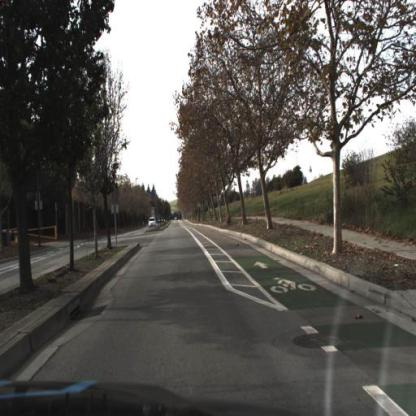car: (149, 218, 156, 228)
